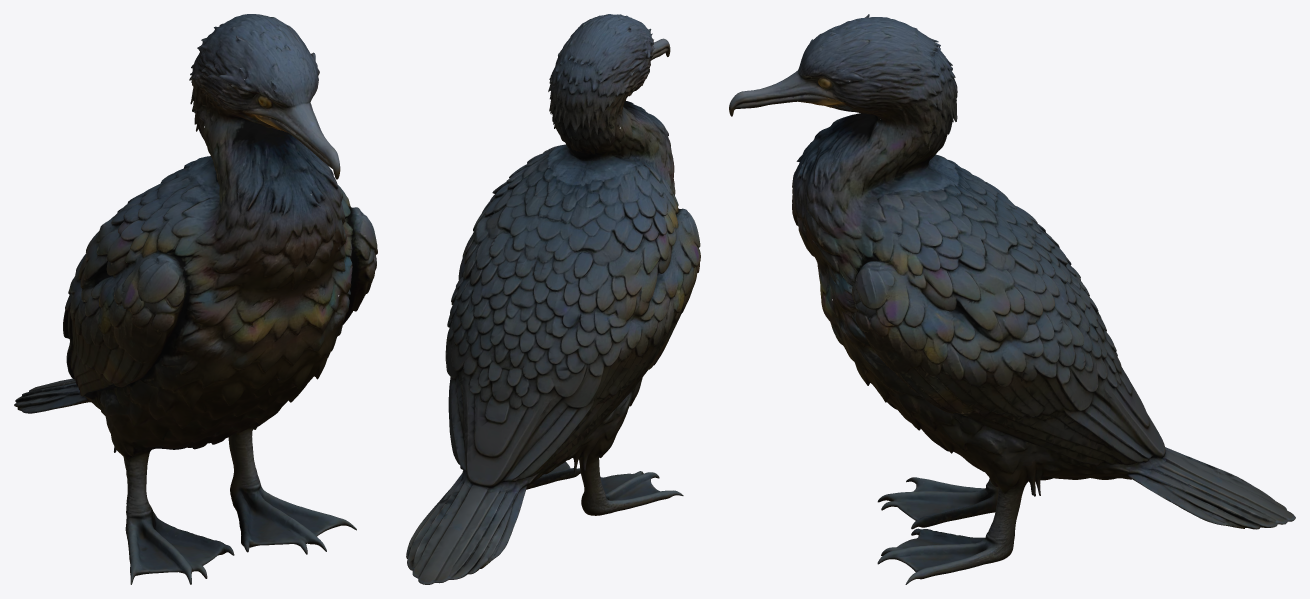
File: bniao.glb
The picture shows the model from 3 angles, left to right: view 1: azimuth 30°, elevation 25°; view 2: azimuth 150°, elevation 25°; view 3: azimuth 270°, elevation 25°; orthographic projection. The views are drawn at different scales.
Visible parts, largest first — view 1: tripo_node_53eabcda-0ce6-45ac-a295-577a133568fc; view 2: tripo_node_53eabcda-0ce6-45ac-a295-577a133568fc; view 3: tripo_node_53eabcda-0ce6-45ac-a295-577a133568fc.
Part boxes in pixels (x1=…): tripo_node_53eabcda-0ce6-45ac-a295-577a133568fc: x1=14, y1=14, x2=377, y2=584; tripo_node_53eabcda-0ce6-45ac-a295-577a133568fc: x1=406, y1=14, x2=700, y2=584; tripo_node_53eabcda-0ce6-45ac-a295-577a133568fc: x1=729, y1=14, x2=1295, y2=584.
Size of the model in its own units: 0.4771 by 0.9982 by 0.9993.
Materials: 1 (1 with a texture image).
